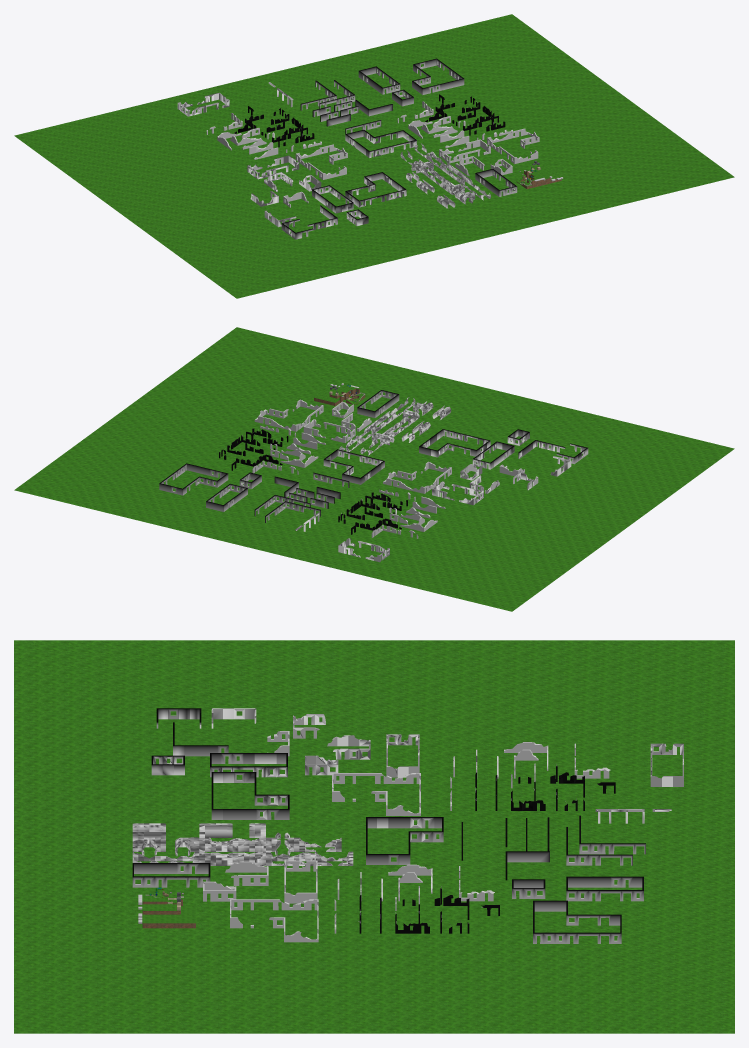
File: NinjaWars_Environment.FBX
3 views of the same model, one above another, from view 1: azimuth 30°, elevation 25°; view 2: azimuth 150°, elevation 25°; view 3: azimuth 270°, elevation 25° (orthographic). The views are drawn at different scales.
Visible parts, largest first — view 1: Object001, pCube240; view 2: Object001, pCube240; view 3: Object001, pCube240, wall_to_grass.002.
Part boxes in pixels (box(x1,y1,x2,y2)): Object001: box(14, 14, 734, 298); pCube240: box(177, 58, 539, 239); Object001: box(14, 327, 734, 611); pCube240: box(159, 390, 588, 562); Object001: box(14, 640, 734, 1033); pCube240: box(132, 708, 683, 943); wall_to_grass.002: box(142, 906, 196, 923).
Bounding box in the file's own units: 868140 × 25793 × 672598.
